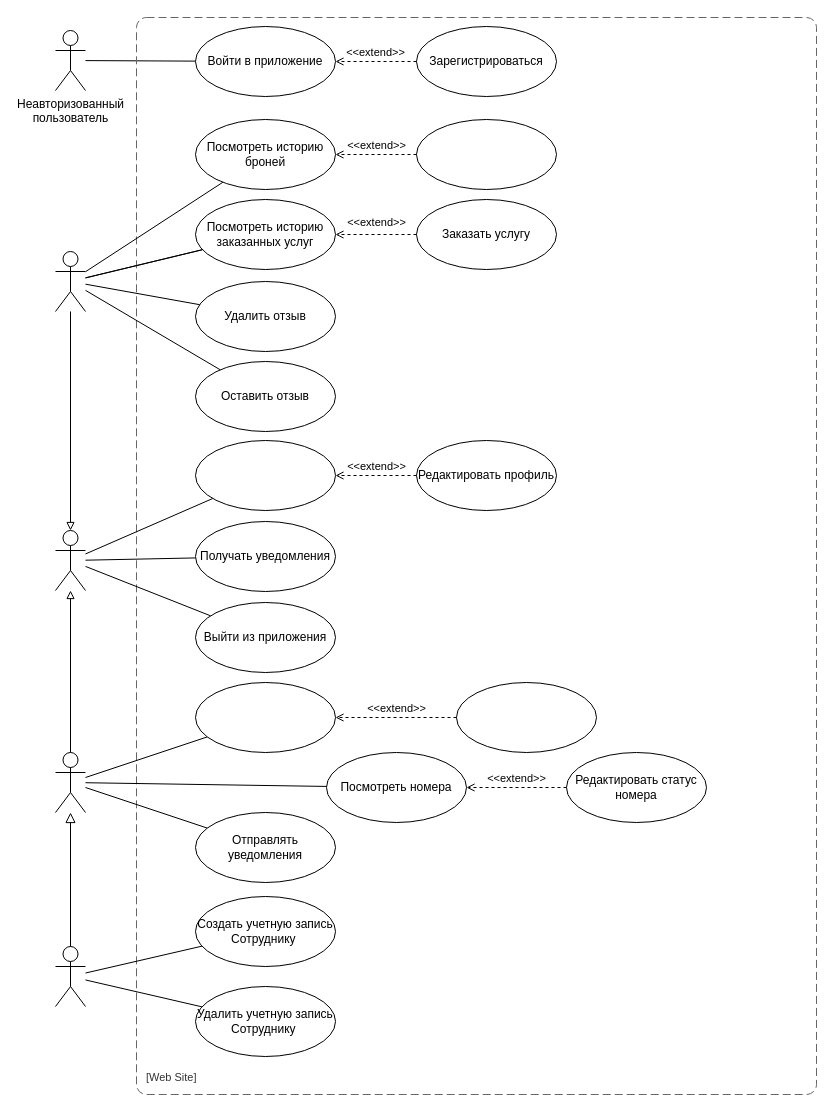
Image size: 834x1112. Some labels were removed from this diagram. Each missing label, with the box of its shape:
Авторизованный пользователь: (54, 530, 86, 590)
Администратор: (54, 946, 86, 1006)
Гость: (54, 250, 86, 312)
Забронировать номер: (416, 118, 556, 190)
Посмотреть заказанные гостями услуги: (194, 682, 336, 752)
Просмотреть профиль: (194, 440, 336, 510)
Редактировать статус услуги: (456, 682, 596, 752)
Сотрудник: (54, 752, 86, 812)
